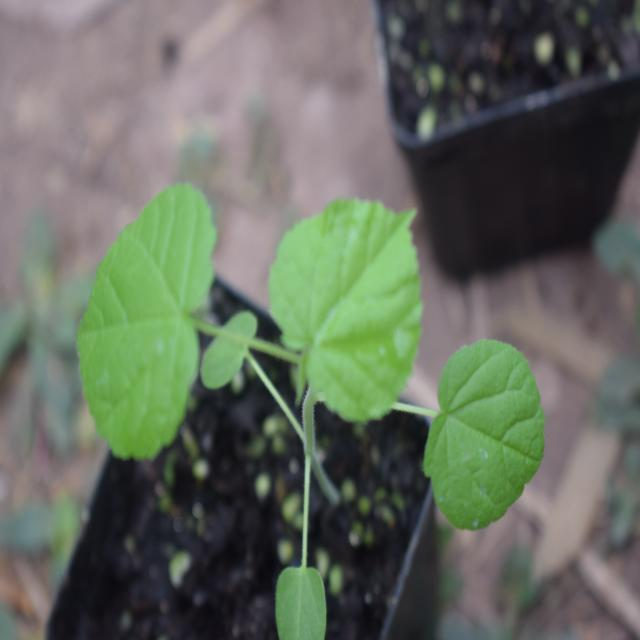abutilon theophrasti: (85, 171, 514, 551)
